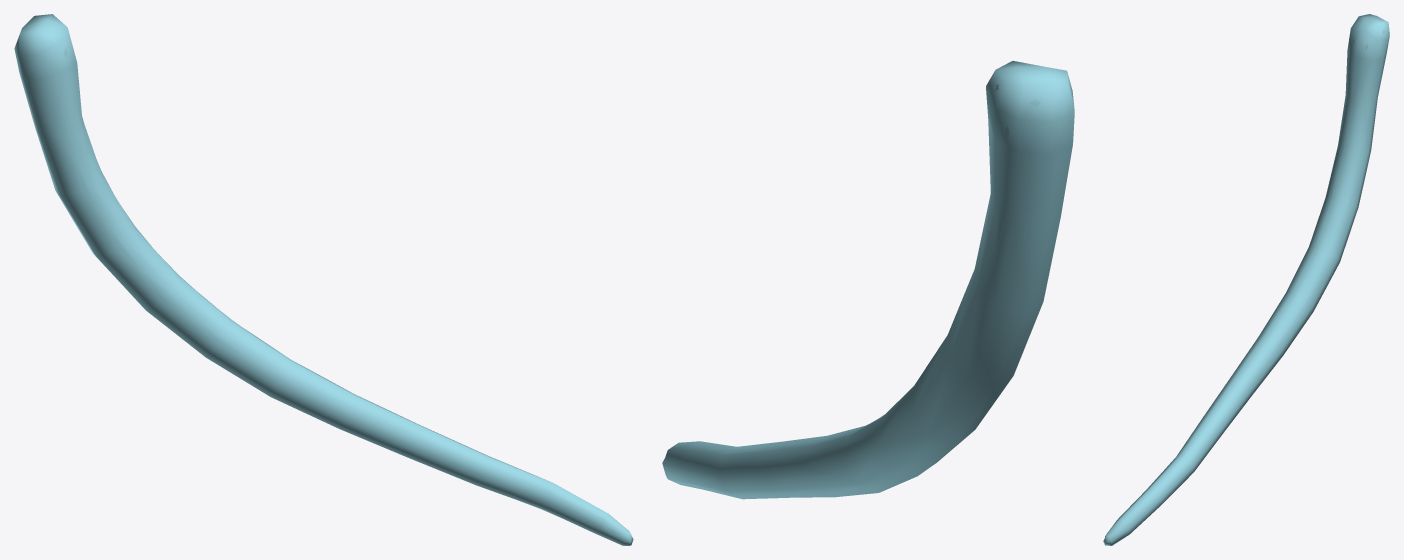
3 views of the same model, side by side, from view 1: azimuth 30°, elevation 25°; view 2: azimuth 150°, elevation 25°; view 3: azimuth 270°, elevation 25° (orthographic). The views are drawn at different scales.
Visible parts, largest first — view 1: CC R8 low, CC R8; view 2: CC R8 low, CC R8; view 3: CC R8 low, CC R8.
Part boxes in pixels (bbox=[...]): CC R8 low: bbox=[14, 14, 633, 545]; CC R8: bbox=[38, 48, 631, 543]; CC R8 low: bbox=[662, 61, 1074, 499]; CC R8: bbox=[684, 84, 1062, 493]; CC R8 low: bbox=[1103, 14, 1389, 545]; CC R8: bbox=[1104, 30, 1387, 544].
Size of the model in its own units: 2.94 by 3.16 by 2.19.
